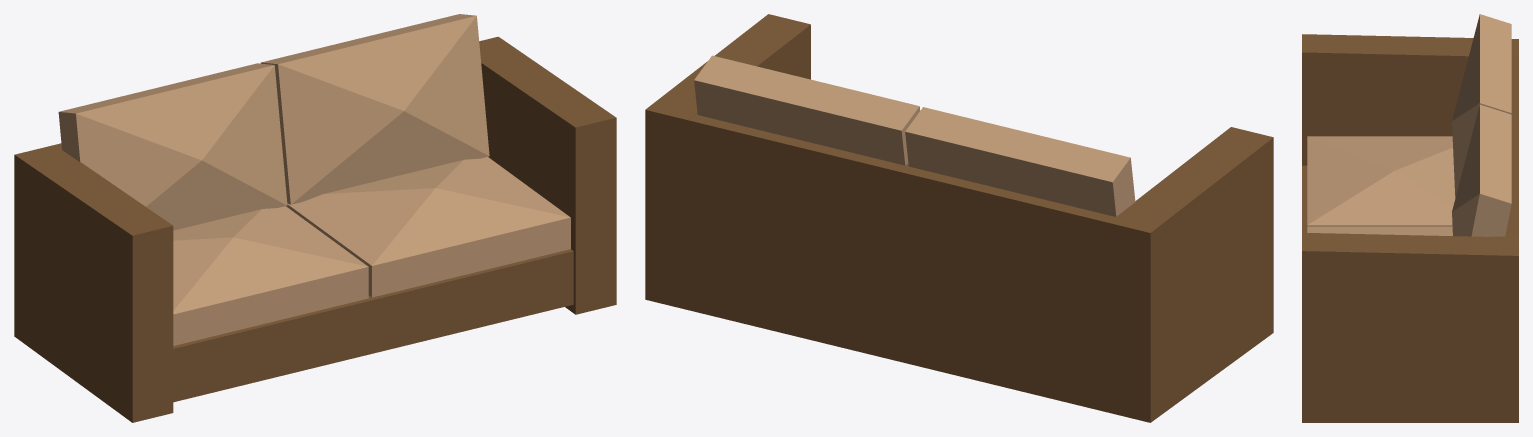
The model's file is Couch_4B.fbx.
3 renders of one model, left to right at view 1: azimuth 30°, elevation 25°; view 2: azimuth 150°, elevation 25°; view 3: azimuth 270°, elevation 25°, orthographic. The views are drawn at different scales.
Visible parts, largest first — view 1: polySurface1850; view 2: polySurface1850; view 3: polySurface1850.
Boxes of the visible parts, <box> form: polySurface1850: <box>14,14,616,422</box>; polySurface1850: <box>645,14,1273,422</box>; polySurface1850: <box>1302,14,1518,422</box>.
Size of the model in its own units: 2.84 by 1.28 by 1.2.
Materials: 1 (1 with a texture image).
